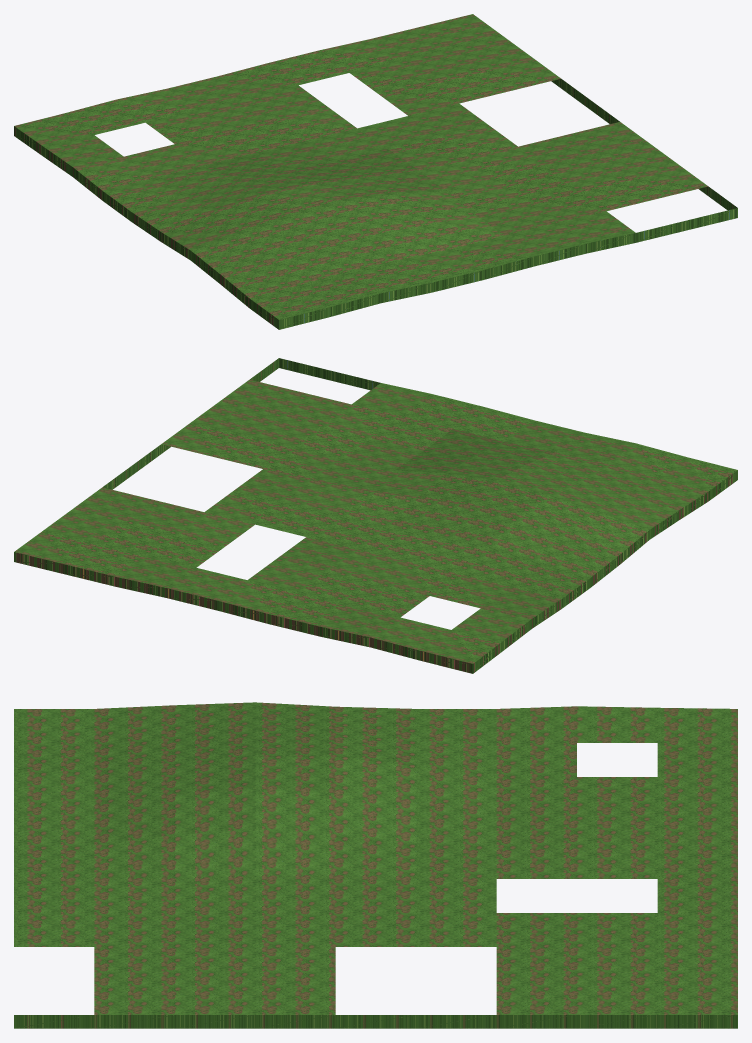
The model's file is rv_terrain_10_lod2.gltf.
The picture shows the model from 3 angles, top to bottom: view 1: azimuth 30°, elevation 25°; view 2: azimuth 150°, elevation 25°; view 3: azimuth 270°, elevation 25°; orthographic projection. The views are drawn at different scales.
Parts seen in each view (by area): view 1: RV_Terrain_10_lod2; view 2: RV_Terrain_10_lod2; view 3: RV_Terrain_10_lod2.
Part boxes in pixels (x1=…): RV_Terrain_10_lod2: x1=14, y1=14, x2=737, y2=329; RV_Terrain_10_lod2: x1=14, y1=358, x2=737, y2=673; RV_Terrain_10_lod2: x1=14, y1=702, x2=737, y2=1028.
Bounding box in the file's own units: 72 × 4.03 × 72.
2 materials, 1 textured.
